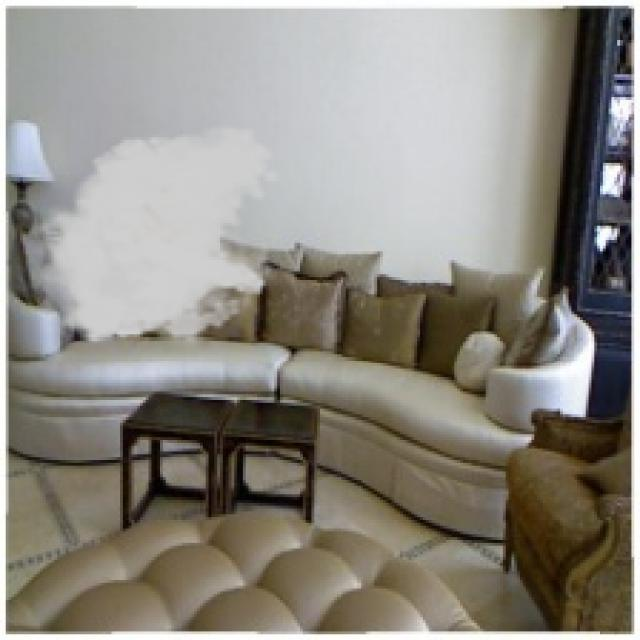smoke: (23, 123, 283, 357)
